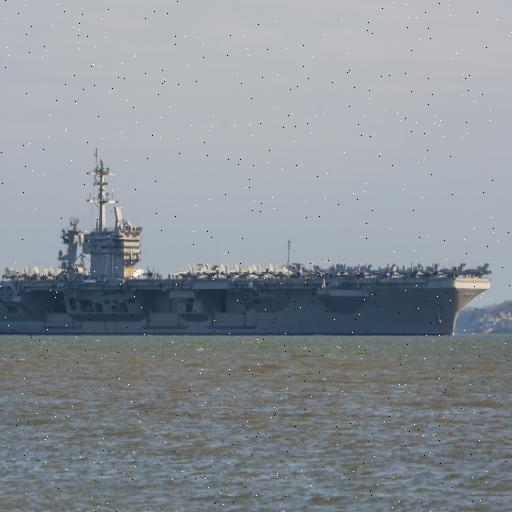Portanaves: (1, 143, 497, 341)
